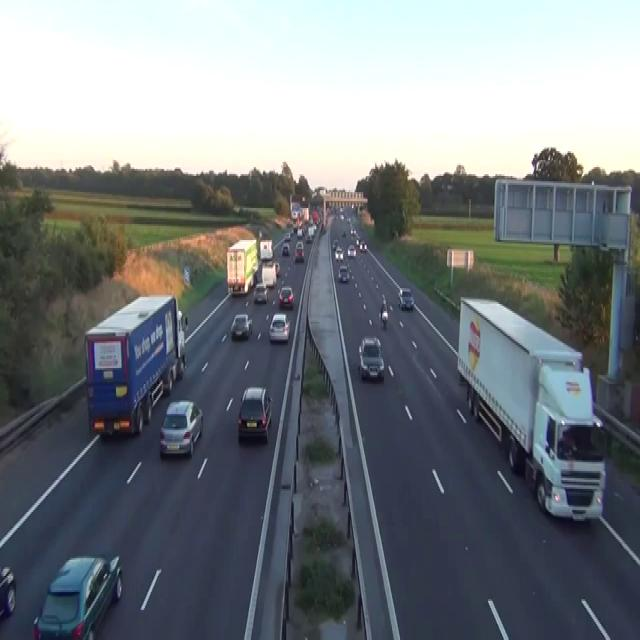Car: (33, 553, 123, 638), (159, 400, 203, 457), (237, 386, 272, 441), (358, 336, 384, 380), (0, 564, 16, 620), (269, 313, 290, 341), (230, 313, 252, 339), (397, 286, 414, 310), (278, 284, 294, 308), (253, 283, 267, 302), (378, 302, 388, 327), (294, 240, 304, 261), (338, 265, 348, 283), (334, 246, 343, 262), (281, 242, 289, 256), (305, 228, 313, 242), (347, 244, 356, 256), (359, 240, 367, 251), (274, 262, 280, 276), (332, 238, 339, 249), (309, 222, 316, 233), (283, 231, 291, 240), (321, 222, 326, 233), (292, 222, 297, 233), (297, 228, 303, 236), (350, 228, 356, 236), (355, 237, 360, 246), (312, 222, 317, 230), (341, 230, 346, 237), (289, 228, 293, 235), (340, 213, 344, 219), (346, 217, 350, 222)
Truck: (456, 295, 607, 525), (84, 293, 188, 439), (226, 238, 258, 295), (261, 260, 277, 286), (259, 238, 273, 260)
